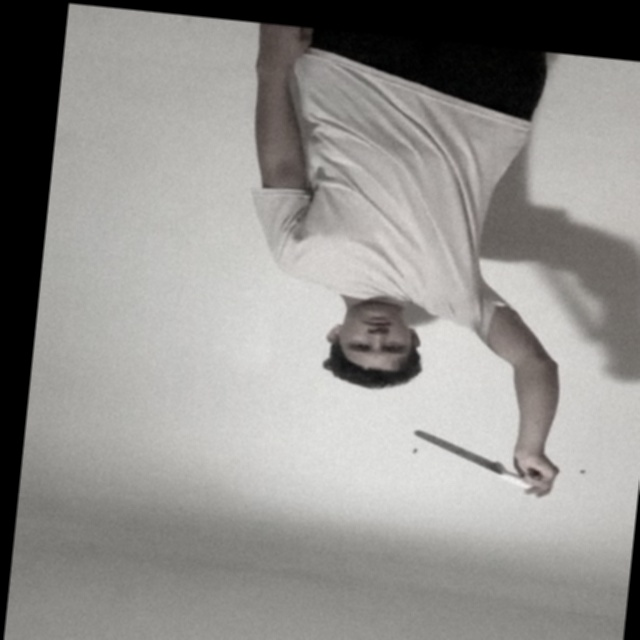Sharp-Object: (411, 432, 504, 473)
